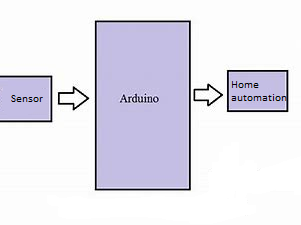arrow: (56, 85, 91, 111), (193, 82, 225, 107)
process: (93, 19, 191, 192), (226, 69, 291, 114), (1, 74, 53, 124)
text: (230, 79, 288, 102), (117, 91, 161, 104), (9, 93, 44, 104)
